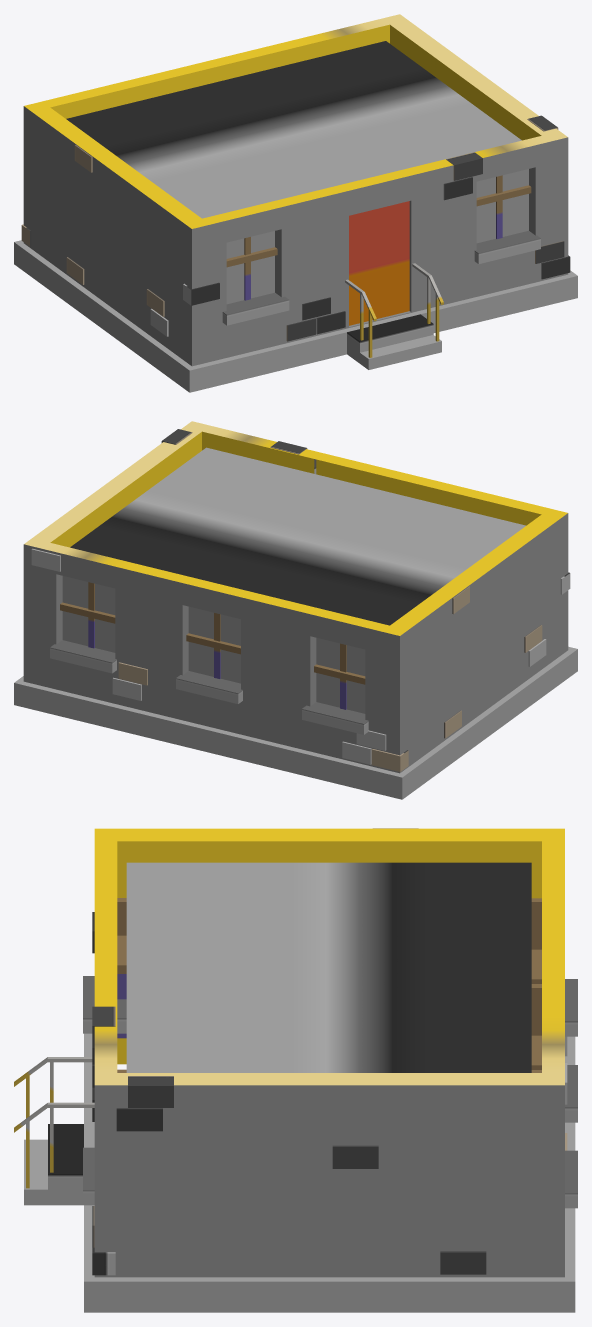
File: house2_bot.fbx
The picture shows the model from 3 angles, top to bottom: view 1: azimuth 30°, elevation 25°; view 2: azimuth 150°, elevation 25°; view 3: azimuth 270°, elevation 25°; orthographic projection. The views are drawn at different scales.
Parts seen in each view (by area): view 1: polySurface299, polySurface301, polySurface153, polySurface184, polySurface163, polySurface254, polySurface263, polySurface259, polySurface261, polySurface260, polySurface255, polySurface186 (+2 smaller); view 2: polySurface299, polySurface301, polySurface196, polySurface208, polySurface220, polySurface274, polySurface273, polySurface268, polySurface271, polySurface272, polySurface198, polySurface210; view 3: polySurface299, polySurface301, polySurface153, polySurface278, polySurface285, polySurface286, polySurface279, polySurface163, polySurface196, polySurface220, polySurface184, polySurface164 (+1 smaller).
Boxes of the visible parts, x1,y1,x2,y2 form: polySurface299: [14, 14, 577, 392]; polySurface301: [66, 41, 521, 218]; polySurface153: [347, 314, 441, 369]; polySurface184: [474, 230, 540, 263]; polySurface163: [222, 292, 289, 325]; polySurface254: [446, 152, 482, 180]; polySurface263: [183, 282, 219, 305]; polySurface259: [541, 255, 570, 279]; polySurface261: [286, 318, 315, 341]; polySurface260: [316, 311, 345, 334]; polySurface255: [443, 177, 472, 200]; polySurface186: [476, 185, 531, 206]; polySurface299: [14, 421, 577, 799]; polySurface301: [70, 447, 525, 625]; polySurface196: [50, 640, 116, 673]; polySurface208: [176, 671, 242, 703]; polySurface220: [302, 702, 368, 734]; polySurface274: [371, 749, 408, 771]; polySurface273: [342, 741, 371, 764]; polySurface268: [31, 548, 60, 571]; polySurface271: [118, 662, 147, 685]; polySurface272: [112, 677, 141, 700]; polySurface198: [60, 602, 115, 623]; polySurface210: [186, 633, 240, 654]; polySurface299: [84, 828, 575, 1312]; polySurface301: [126, 862, 531, 1072]; polySurface153: [24, 1124, 83, 1205]; polySurface278: [128, 1076, 173, 1107]; polySurface285: [440, 1251, 486, 1274]; polySurface286: [332, 1145, 378, 1168]; polySurface279: [116, 1108, 162, 1131]; polySurface163: [83, 976, 126, 1033]; polySurface196: [565, 1150, 577, 1208]; polySurface220: [565, 979, 577, 1036]; polySurface184: [83, 1147, 94, 1205]; polySurface164: [117, 898, 126, 1038].
Bounding box in the file's own units: 1400 × 551 × 1259.
